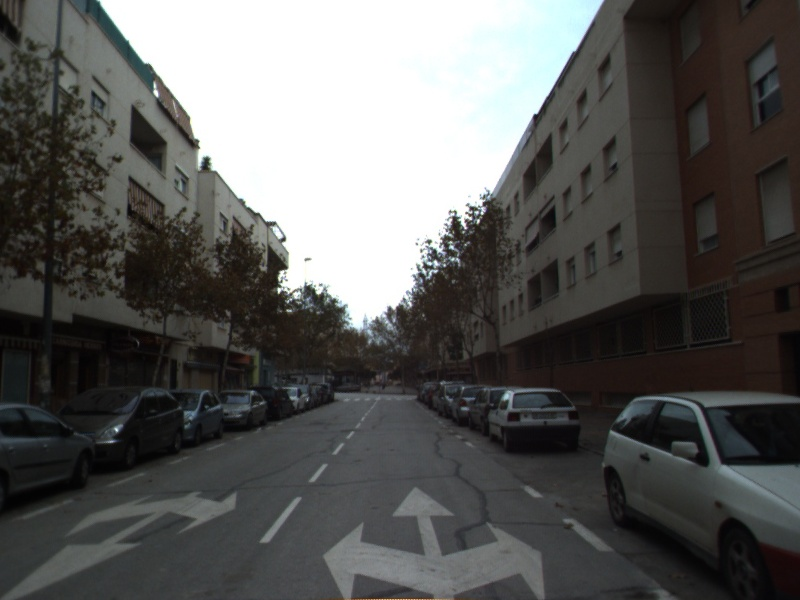STRAIGHT_LEFT_RIGHT: (320, 483, 549, 600)
